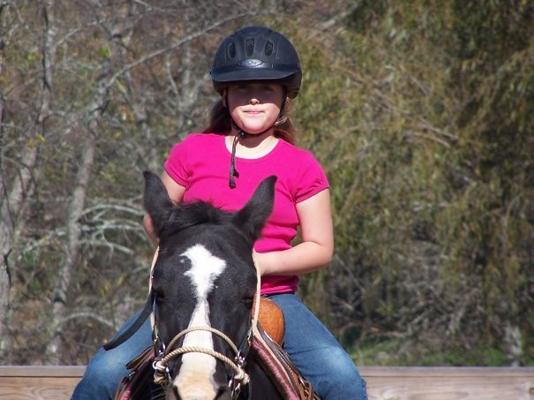person: (66, 22, 371, 400)
